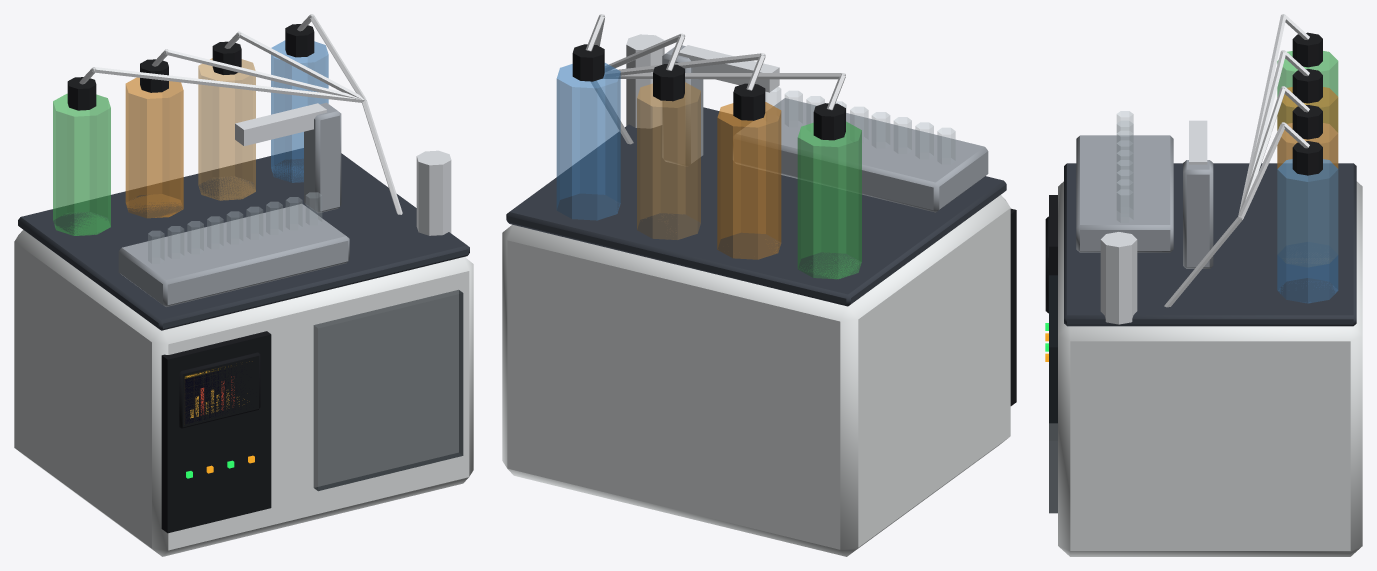
The model's file is analyzer_gas_chromatograph.glb.
The picture shows the model from 3 angles, left to right: view 1: azimuth 30°, elevation 25°; view 2: azimuth 150°, elevation 25°; view 3: azimuth 270°, elevation 25°; orthographic projection. The views are drawn at different scales.
Parts seen in each view (by area): view 1: analyzer_gas_chromatograph; view 2: analyzer_gas_chromatograph; view 3: analyzer_gas_chromatograph.
Part boxes in pixels (x1=…): analyzer_gas_chromatograph: x1=14, y1=14, x2=473, y2=556; analyzer_gas_chromatograph: x1=502, y1=14, x2=1016, y2=556; analyzer_gas_chromatograph: x1=1045, y1=14, x2=1362, y2=556.
Size of the model in its own units: 0.62 by 0.745 by 0.521.
Materials: 16 (1 with a texture image).
